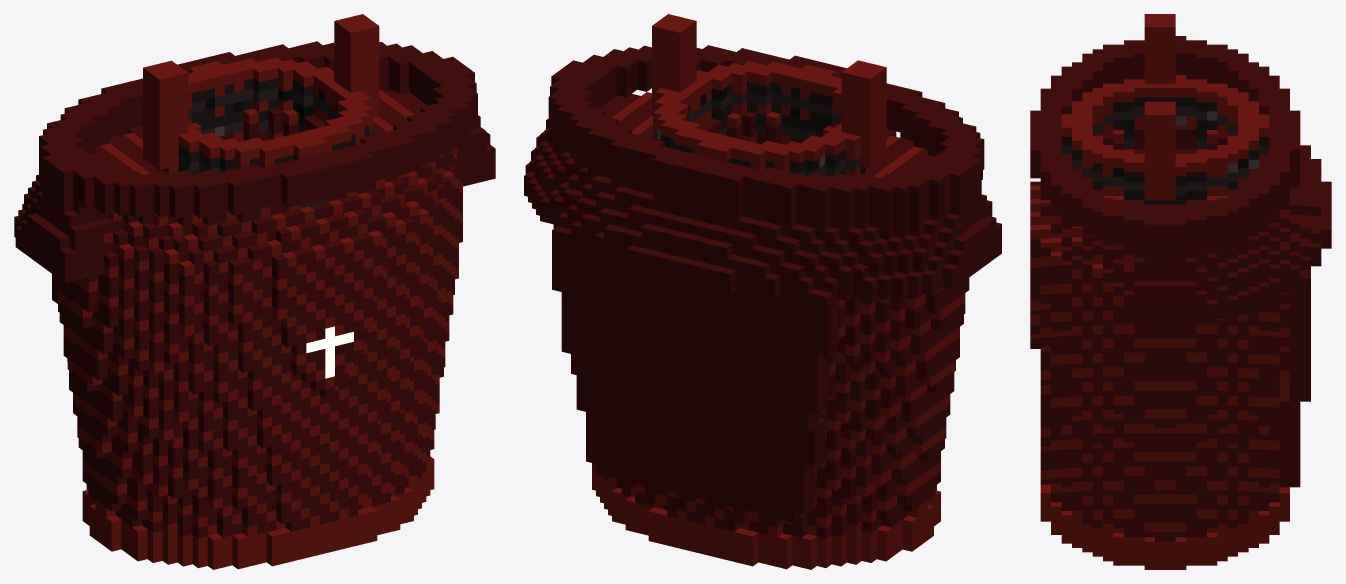
The model's file is scale_masterwork_chest.glb.
3 renders of one model, left to right at view 1: azimuth 30°, elevation 25°; view 2: azimuth 150°, elevation 25°; view 3: azimuth 270°, elevation 25°, orthographic. The views are drawn at different scales.
Parts seen in each view (by area): view 1: scale_masterwork_chest; view 2: scale_masterwork_chest; view 3: scale_masterwork_chest.
Boxes of the visible parts, left/top/right/bottom form: scale_masterwork_chest: left=14, top=14, right=495, bottom=569; scale_masterwork_chest: left=524, top=14, right=1001, bottom=569; scale_masterwork_chest: left=1030, top=14, right=1331, bottom=569.
Size of the model in its own units: 0.54 by 0.552 by 0.348.
